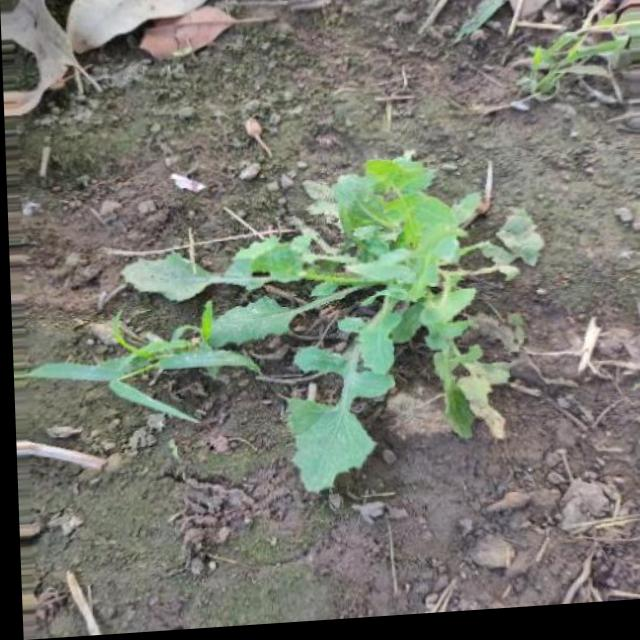crop: (106, 157, 546, 495)
